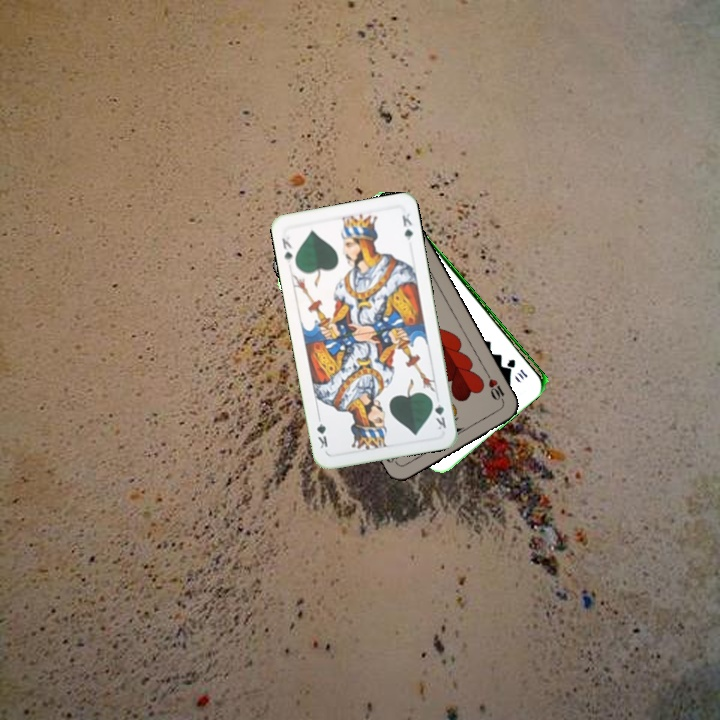G10: (504, 355, 530, 382)
GK: (427, 393, 449, 433), (278, 229, 296, 265)
H10: (482, 369, 507, 406)
